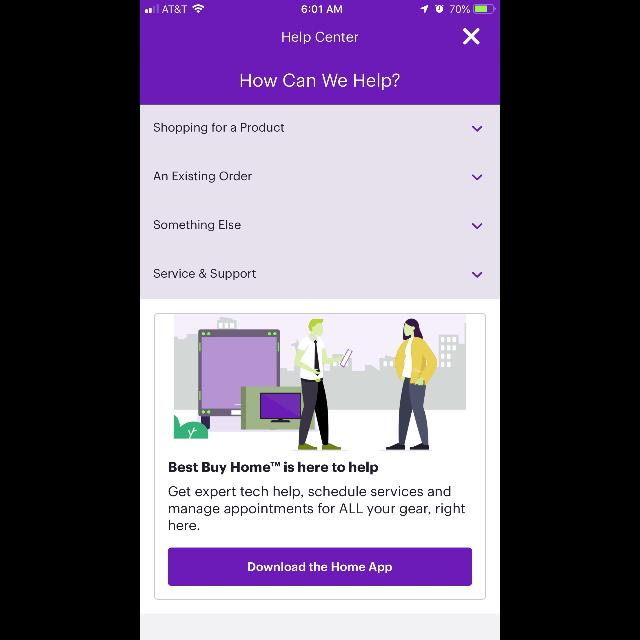icon: (462, 28, 480, 46), (472, 126, 482, 132), (472, 174, 482, 180), (472, 223, 482, 229), (472, 272, 482, 278)
image: (174, 314, 466, 452)
text: (169, 486, 465, 530), (240, 74, 400, 90), (170, 462, 378, 474), (154, 122, 284, 134), (154, 268, 256, 280), (154, 220, 240, 232), (154, 172, 252, 182), (282, 32, 358, 44)
textbutton: (168, 548, 472, 586)
uppertaskbar: (140, 0, 500, 14)
